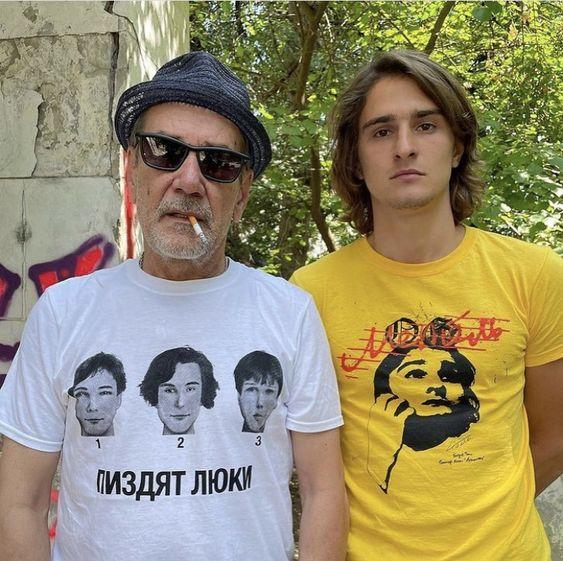cigarette: (188, 215, 207, 244)
